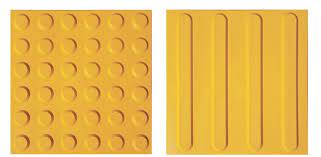guide_blocks: (167, 11, 308, 152), (10, 11, 150, 152)
